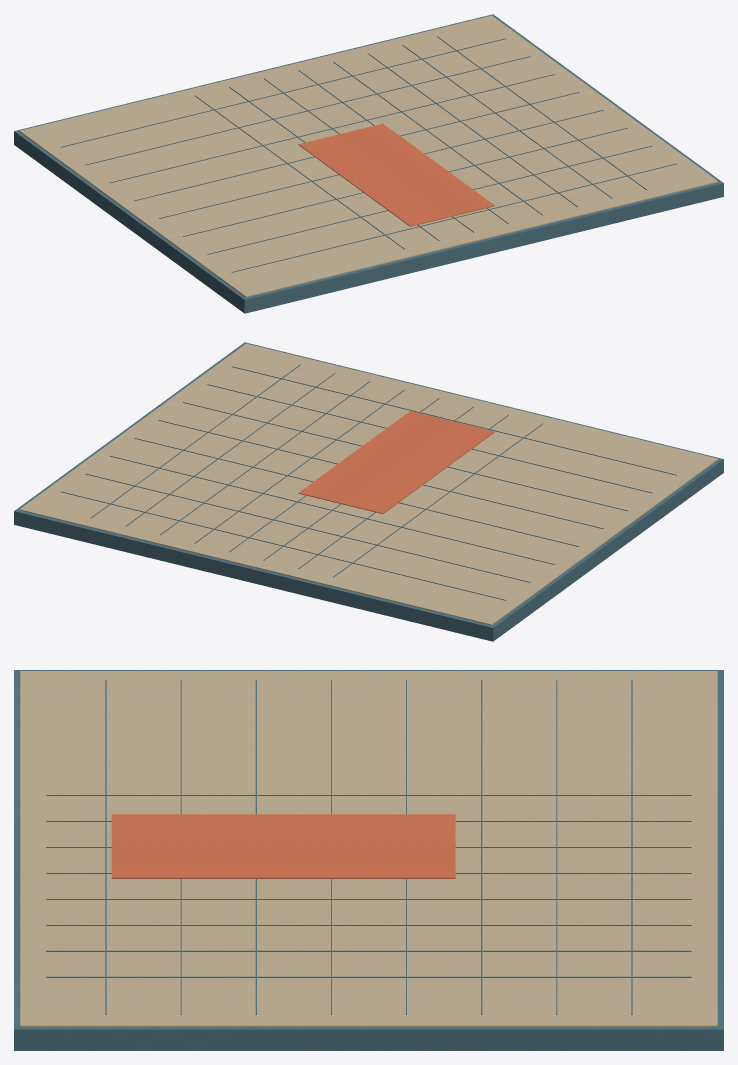
File: atlas100-s046-a07.lod1.glb
3 renders of one model, top to bottom at view 1: azimuth 30°, elevation 25°; view 2: azimuth 150°, elevation 25°; view 3: azimuth 270°, elevation 25°, orthographic. The views are drawn at different scales.
Visible parts, largest first — view 1: atlas100-s046-a07:part-001, atlas100-s046-a07:part-000, atlas100-s046-a07:part-021, atlas100-s046-a07:part-014, atlas100-s046-a07:part-020, atlas100-s046-a07:part-015, atlas100-s046-a07:part-013, atlas100-s046-a07:part-016, atlas100-s046-a07:part-018, atlas100-s046-a07:part-019, atlas100-s046-a07:part-017; view 2: atlas100-s046-a07:part-001, atlas100-s046-a07:part-000, atlas100-s046-a07:part-021, atlas100-s046-a07:part-013, atlas100-s046-a07:part-015, atlas100-s046-a07:part-014, atlas100-s046-a07:part-020, atlas100-s046-a07:part-017, atlas100-s046-a07:part-019, atlas100-s046-a07:part-018, atlas100-s046-a07:part-016; view 3: atlas100-s046-a07:part-001, atlas100-s046-a07:part-000, atlas100-s046-a07:part-021, atlas100-s046-a07:part-011, atlas100-s046-a07:part-012, atlas100-s046-a07:part-013, atlas100-s046-a07:part-014, atlas100-s046-a07:part-015, atlas100-s046-a07:part-020, atlas100-s046-a07:part-010, atlas100-s046-a07:part-009, atlas100-s046-a07:part-005.
Boxes of the visible parts, box(x1,y1,x2,y2) form: atlas100-s046-a07:part-001: box(19, 15, 718, 297); atlas100-s046-a07:part-000: box(14, 14, 723, 313); atlas100-s046-a07:part-021: box(298, 123, 494, 226); atlas100-s046-a07:part-014: box(85, 56, 530, 165); atlas100-s046-a07:part-020: box(231, 163, 676, 272); atlas100-s046-a07:part-015: box(110, 74, 554, 183); atlas100-s046-a07:part-013: box(61, 38, 505, 147); atlas100-s046-a07:part-016: box(134, 92, 579, 201); atlas100-s046-a07:part-018: box(183, 127, 627, 236); atlas100-s046-a07:part-019: box(207, 145, 652, 254); atlas100-s046-a07:part-017: box(158, 110, 603, 218); atlas100-s046-a07:part-001: box(19, 343, 718, 625); atlas100-s046-a07:part-000: box(14, 342, 723, 641); atlas100-s046-a07:part-021: box(298, 411, 494, 513); atlas100-s046-a07:part-013: box(61, 491, 506, 600); atlas100-s046-a07:part-015: box(110, 455, 554, 564); atlas100-s046-a07:part-014: box(85, 473, 530, 582); atlas100-s046-a07:part-020: box(232, 366, 676, 475); atlas100-s046-a07:part-017: box(158, 420, 603, 529); atlas100-s046-a07:part-019: box(207, 384, 652, 493); atlas100-s046-a07:part-018: box(183, 402, 627, 511); atlas100-s046-a07:part-016: box(134, 438, 579, 546); atlas100-s046-a07:part-001: box(20, 671, 717, 1026); atlas100-s046-a07:part-000: box(14, 670, 723, 1050); atlas100-s046-a07:part-021: box(111, 814, 455, 878); atlas100-s046-a07:part-011: box(46, 950, 691, 951); atlas100-s046-a07:part-012: box(46, 976, 691, 977); atlas100-s046-a07:part-013: box(631, 680, 632, 1014); atlas100-s046-a07:part-014: box(556, 680, 557, 1014); atlas100-s046-a07:part-015: box(481, 680, 482, 1014); atlas100-s046-a07:part-020: box(105, 680, 106, 1014); atlas100-s046-a07:part-010: box(46, 925, 691, 925); atlas100-s046-a07:part-009: box(46, 899, 691, 899); atlas100-s046-a07:part-005: box(46, 795, 691, 795).
Bounding box in the file's own units: 12.46 × 0.404 × 10.4.
3 materials, 3 textured.
